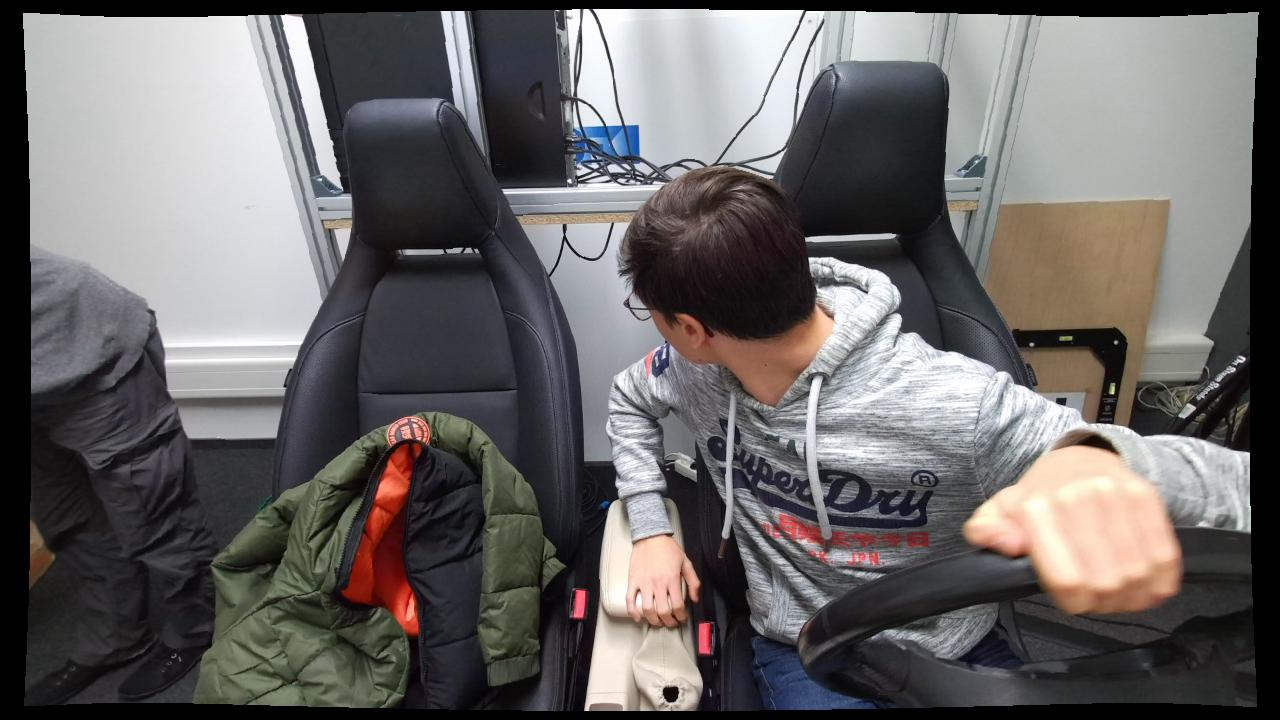Distracted: (600, 154, 1036, 720)
